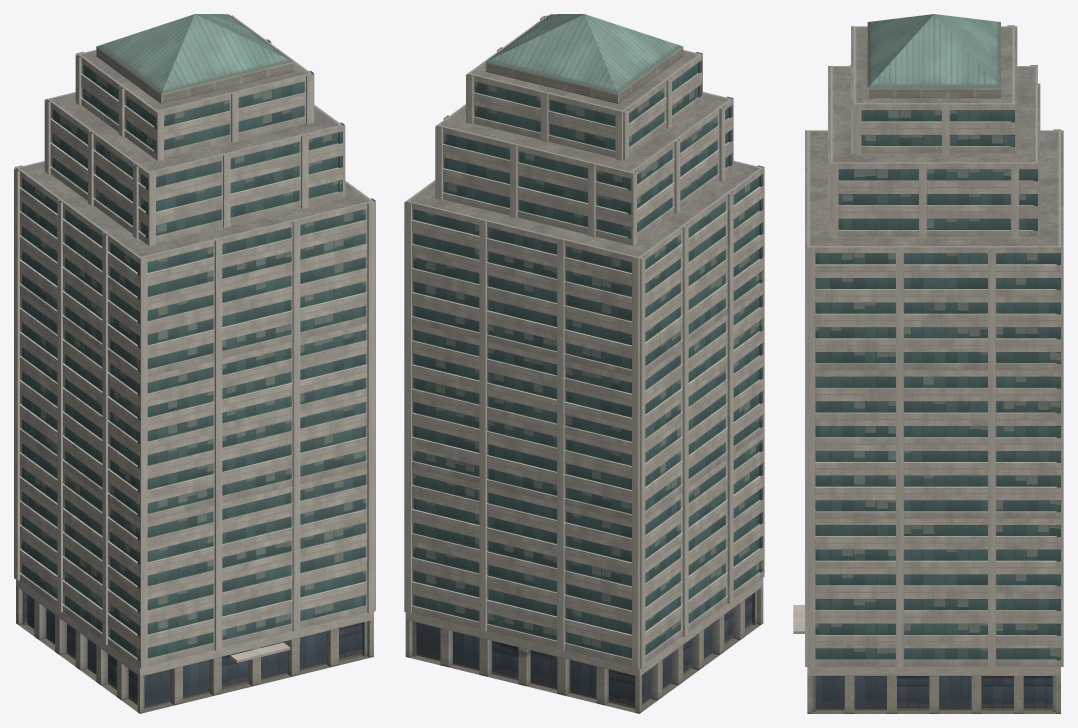
The model's file is sf_glassslab_b.glb.
The picture shows the model from 3 angles, left to right: view 1: azimuth 30°, elevation 25°; view 2: azimuth 150°, elevation 25°; view 3: azimuth 270°, elevation 25°; orthographic projection. The views are drawn at different scales.
Parts seen in each view (by area): view 1: sf_glassslab_b; view 2: sf_glassslab_b; view 3: sf_glassslab_b.
Part boxes in pixels (x1,y1,x2,y2): sf_glassslab_b: (14,14,375,713); sf_glassslab_b: (404,14,764,713); sf_glassslab_b: (793,14,1063,713).
Bounding box in the file's own units: 40.3 × 101 × 38.65.
Materials: 1 (1 with a texture image).
